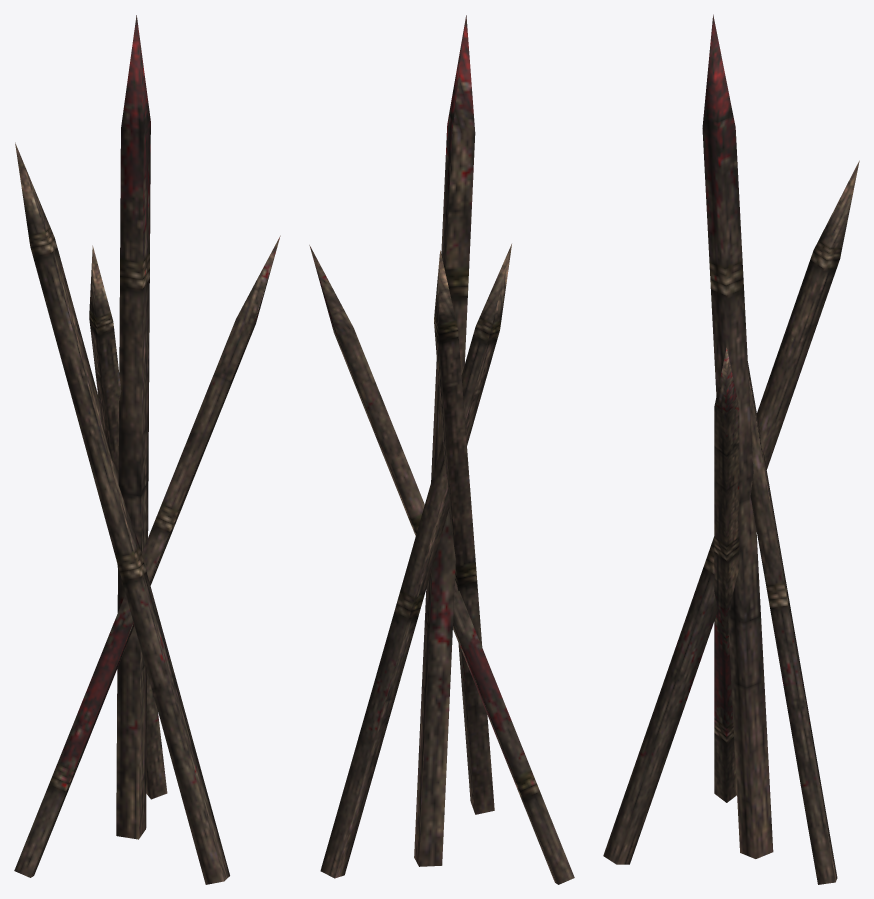
Rendered from Camp02_c.FBX.
3 views of the same model, side by side, from view 1: azimuth 30°, elevation 25°; view 2: azimuth 150°, elevation 25°; view 3: azimuth 270°, elevation 25° (orthographic).
Visible parts, largest first — view 1: Camp02_c; view 2: Camp02_c; view 3: Camp02_c.
Part boxes in pixels (x1=…): Camp02_c: x1=14, y1=15, x2=280, y2=884; Camp02_c: x1=309, y1=15, x2=574, y2=884; Camp02_c: x1=603, y1=14, x2=859, y2=884.
Size of the model in its own units: 152 by 459 by 128.
